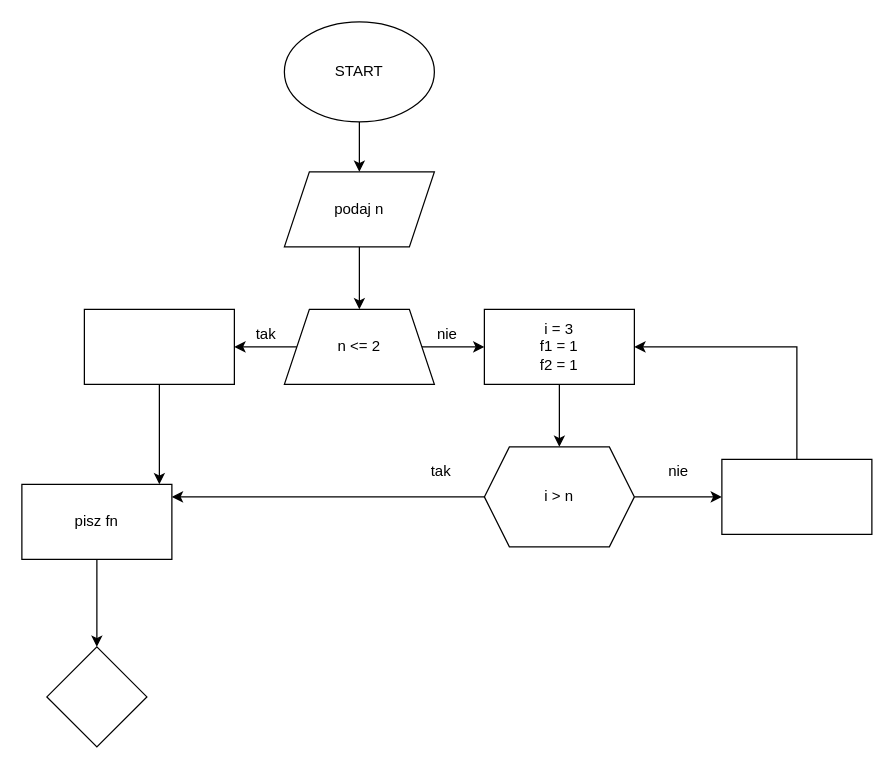
Some shapes in this 894 by 769 pixel diagram are drawn without their labels. Here are the shapes that lost their labels. From the top down, the centre of each, then its label:
[158,346]: fn = 1
[796,496]: fn = f1 + f2 f1 = f2 f2 = fn i++
[96,696]: KONIEC
